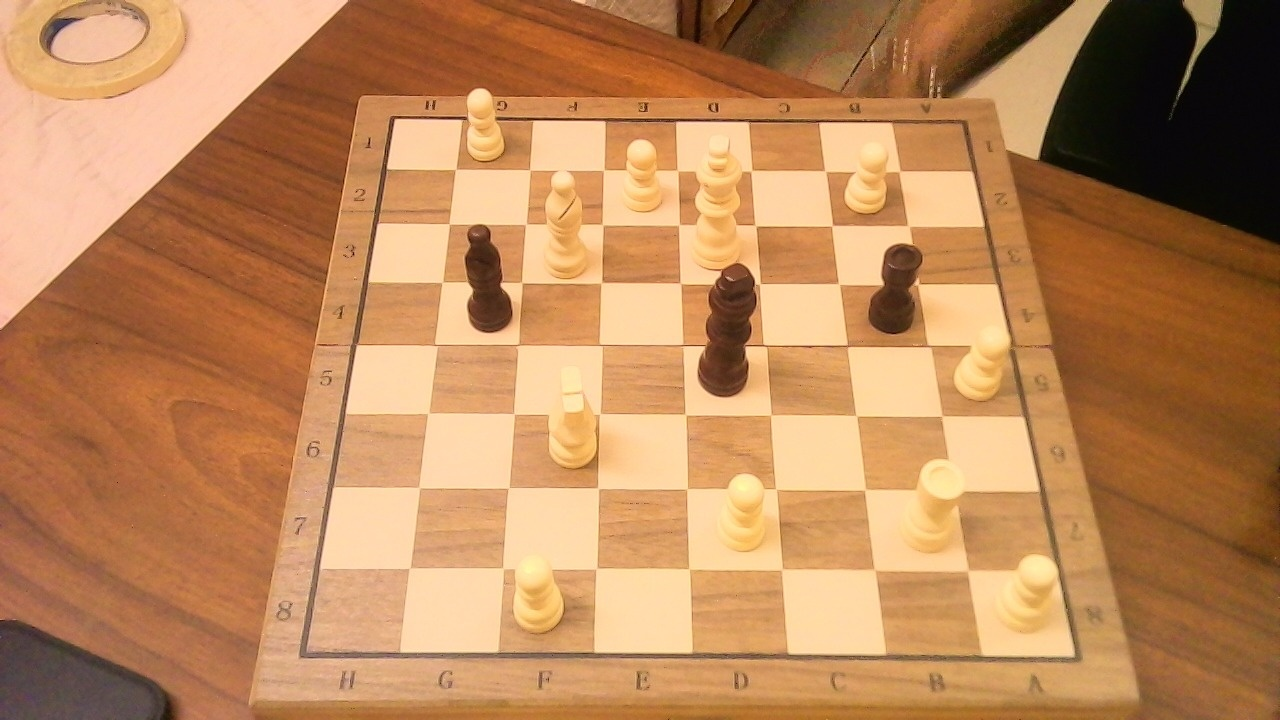B: (533, 159, 596, 282)
K: (684, 123, 753, 274)
N: (528, 383, 600, 472)
P: (988, 544, 1068, 637), (505, 543, 572, 638), (947, 316, 1019, 404), (707, 464, 774, 557), (837, 133, 897, 217), (612, 130, 669, 217), (459, 80, 511, 165)
R: (892, 448, 973, 560)
b: (452, 209, 520, 337)
k: (691, 250, 770, 403)
r: (860, 230, 932, 338)
